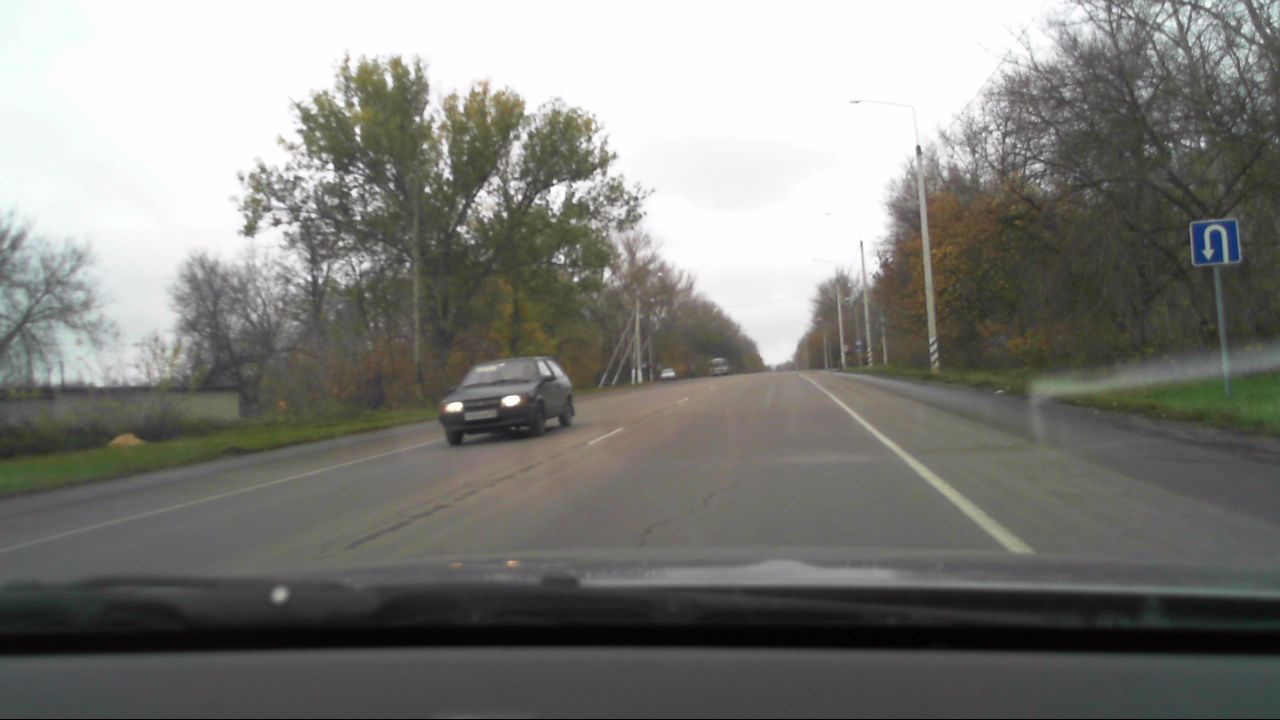U-turn: (1191, 221, 1238, 263)
